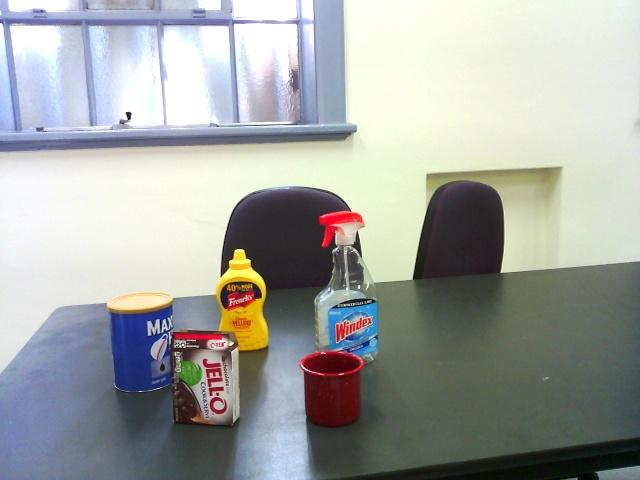002_master_chef_can: (109, 290, 175, 394)
006_mustard_bottle: (213, 248, 271, 354)
008_pudding_box: (168, 328, 242, 430)
025_mug: (297, 349, 365, 429)
